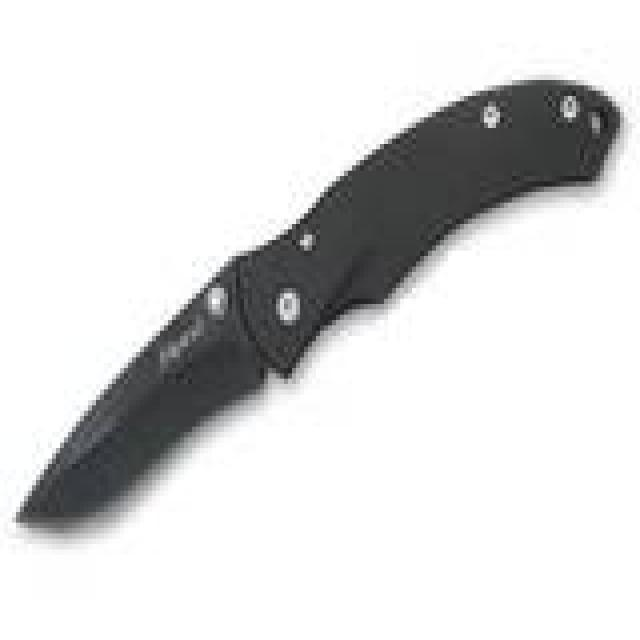Knife: (4, 64, 626, 538)
